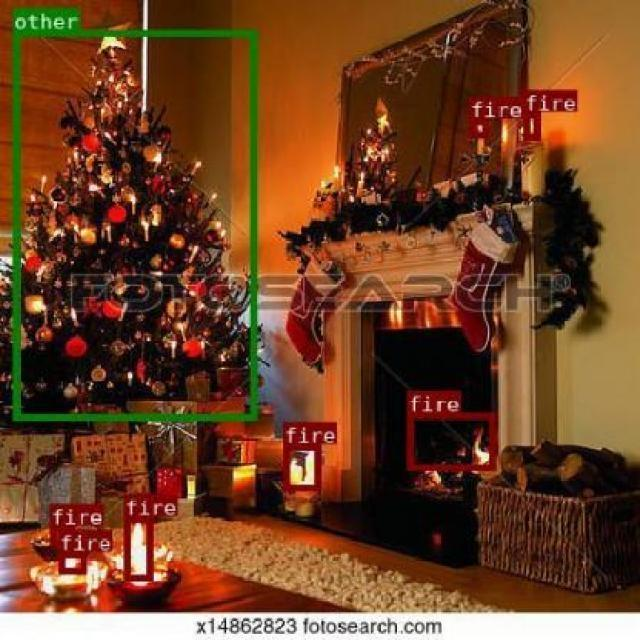fire: (406, 413, 494, 470), (123, 515, 152, 580), (282, 442, 321, 490), (58, 550, 86, 573), (49, 526, 74, 546), (522, 111, 539, 139), (468, 117, 487, 137)
